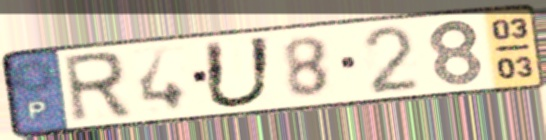2: (360, 23, 423, 97)
4: (137, 45, 193, 114)
8: (425, 18, 486, 88), (279, 33, 334, 100)
R: (59, 48, 136, 126)
U: (200, 34, 276, 111)
